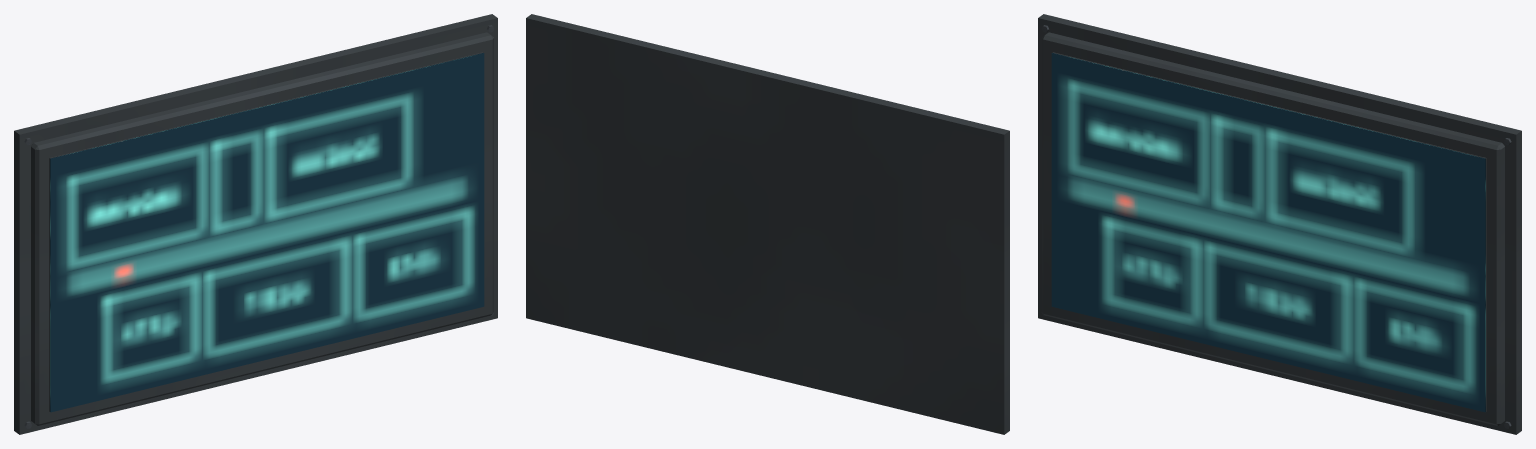
Rendered from screen_ss_map.fbx.
3 renders of one model, left to right at view 1: azimuth 30°, elevation 25°; view 2: azimuth 150°, elevation 25°; view 3: azimuth 330°, elevation 25°, orthographic.
Visible parts, largest first — view 1: screen_ss_map_lamp, screen_ss_map; view 2: screen_ss_map; view 3: screen_ss_map_lamp, screen_ss_map.
Boxes of the visible parts, <box> form: screen_ss_map_lamp: <box>50,53,484,412</box>; screen_ss_map: <box>14,14,497,434</box>; screen_ss_map: <box>526,14,1009,434</box>; screen_ss_map_lamp: <box>1051,53,1485,412</box>; screen_ss_map: <box>1038,14,1521,434</box>.
Size of the model in its own units: 1.5 by 0.9 by 0.077.
1 material, 1 textured.
